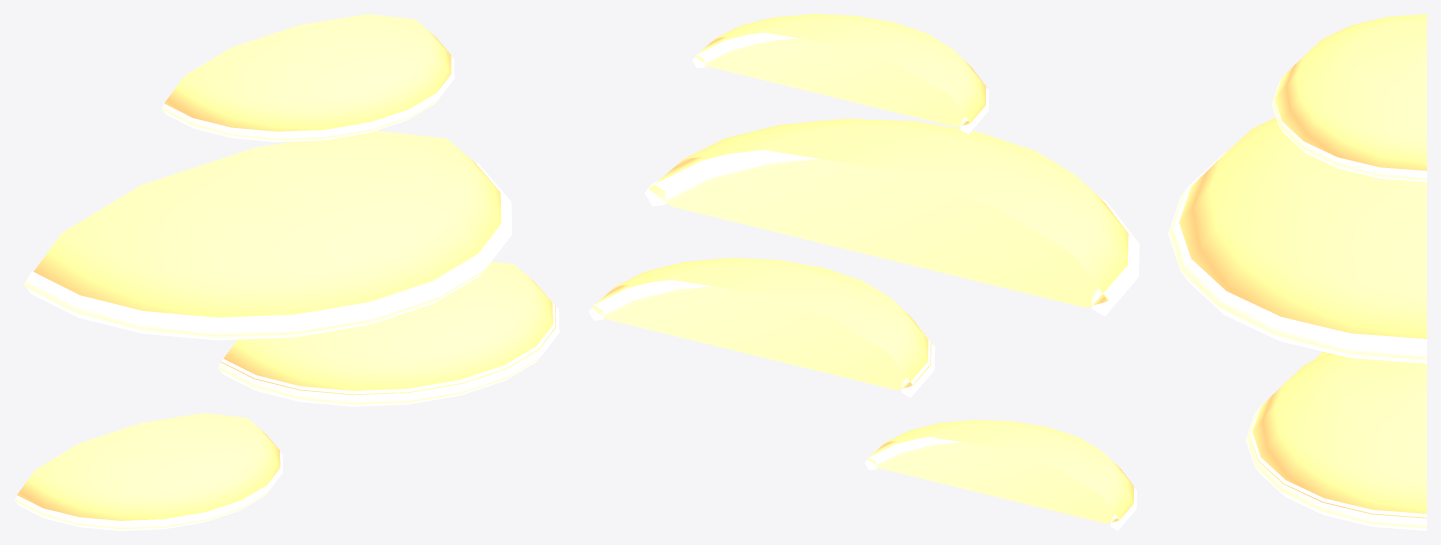
Rendered from mwm_shelfshroom.glb.
The picture shows the model from 3 angles, left to right: view 1: azimuth 30°, elevation 25°; view 2: azimuth 150°, elevation 25°; view 3: azimuth 270°, elevation 25°; orthographic projection. The views are drawn at different scales.
Parts seen in each view (by area): view 1: shelf, shelf.003, shelf.001, shelf.002, Torus, Torus.001, Torus.003, Torus.002; view 2: shelf, shelf.001, shelf.003, shelf.002, Torus, Torus.001, Torus.003, Torus.002; view 3: shelf, shelf.001, shelf.003, Torus, Torus.001, Torus.003.
Part boxes in pixels (box(x1,y1,x2,y2)): shelf: box(33, 130, 501, 317); shelf.003: box(164, 14, 451, 131); shelf.001: box(221, 261, 555, 395); shelf.002: box(17, 413, 280, 520); Torus: box(24, 163, 512, 340); Torus.001: box(217, 282, 559, 406); Torus.003: box(161, 56, 454, 142); Torus.002: box(14, 452, 282, 530); shelf: box(649, 118, 1128, 307); shelf.001: box(592, 258, 931, 390); shelf.003: box(695, 14, 986, 127); shelf.002: box(867, 420, 1133, 523); Torus: box(644, 150, 1139, 316); Torus.001: box(588, 280, 934, 397); Torus.003: box(692, 32, 989, 134); Torus.002: box(865, 437, 1136, 530); shelf: box(1179, 117, 1426, 338); shelf.001: box(1249, 353, 1426, 518); shelf.003: box(1274, 14, 1426, 170); Torus: box(1168, 152, 1426, 363); Torus.001: box(1245, 399, 1426, 530); Torus.003: box(1271, 79, 1426, 182).
Bounding box in the file's own units: 2.32 × 1.74 × 0.918.
